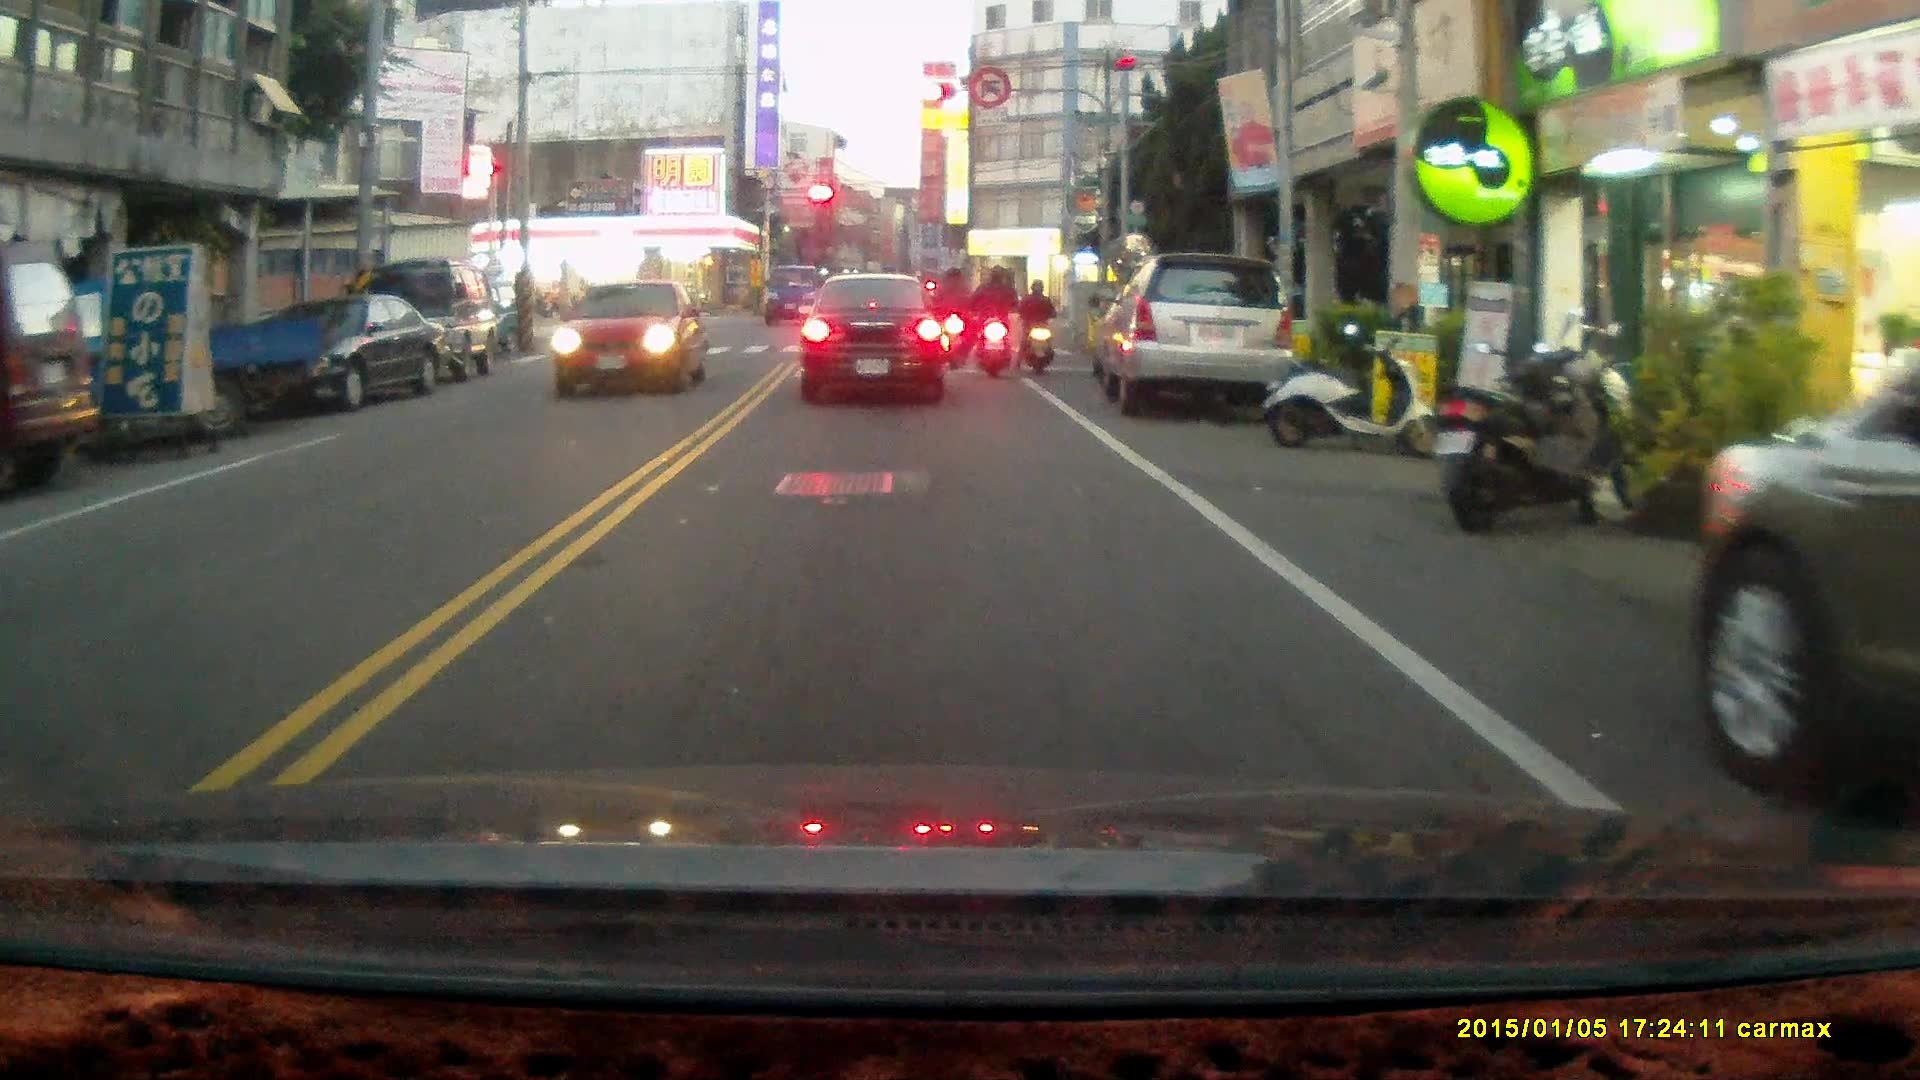rider: (965, 266, 1018, 383), (1016, 279, 1057, 380), (931, 267, 970, 372)
vehicle: (1692, 293, 1920, 827), (1096, 253, 1301, 427), (1, 238, 109, 500), (223, 293, 450, 413), (354, 255, 504, 391), (799, 272, 948, 409), (549, 278, 704, 399)
